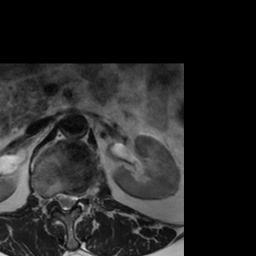CCS_normal: (62, 186, 69, 220)
LFS_stenosis: (77, 185, 85, 207)
LLS_normal: (69, 187, 77, 213)
RFS_stenosis: (47, 187, 54, 211)
RLS_normal: (54, 186, 62, 211)
